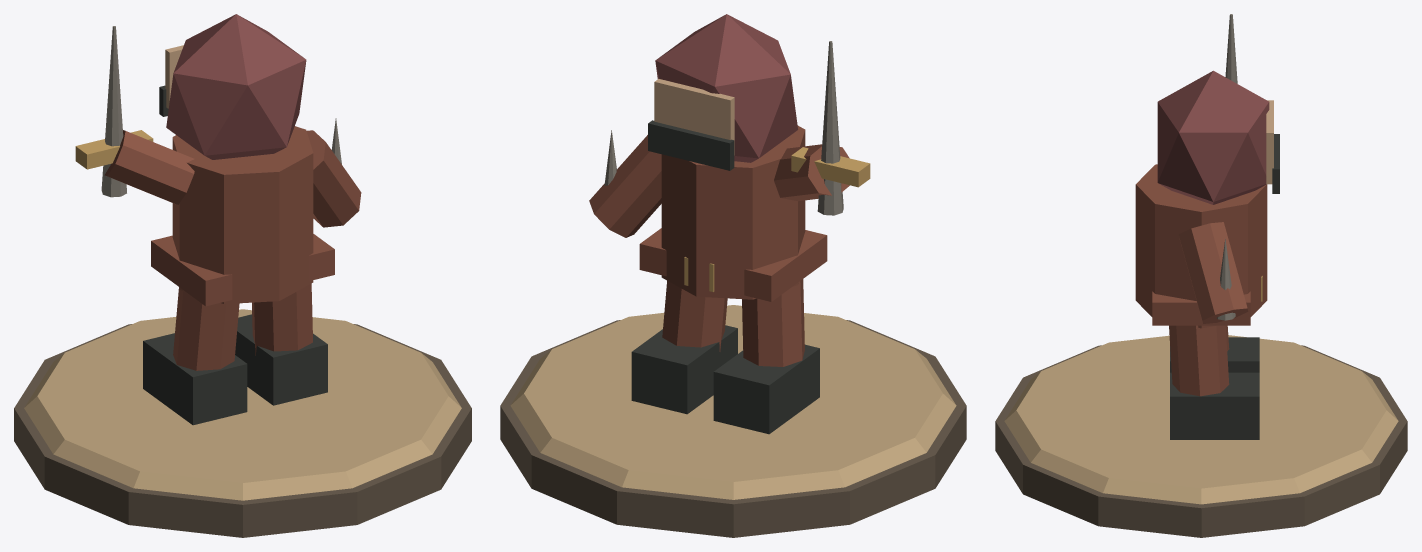
Rendered from WorldParty_Bandits.fbx.
3 renders of one model, left to right at view 1: azimuth 30°, elevation 25°; view 2: azimuth 150°, elevation 25°; view 3: azimuth 270°, elevation 25°, orthographic. The views are drawn at different scales.
Parts seen in each view (by area): view 1: WorldParty_Bandits; view 2: WorldParty_Bandits; view 3: WorldParty_Bandits.
Boxes of the visible parts, <box> form: WorldParty_Bandits: <box>14,14,471,537</box>; WorldParty_Bandits: <box>500,14,966,537</box>; WorldParty_Bandits: <box>995,14,1407,537</box>.
Bounding box in the file's own units: 1.38 × 1.43 × 1.38.
